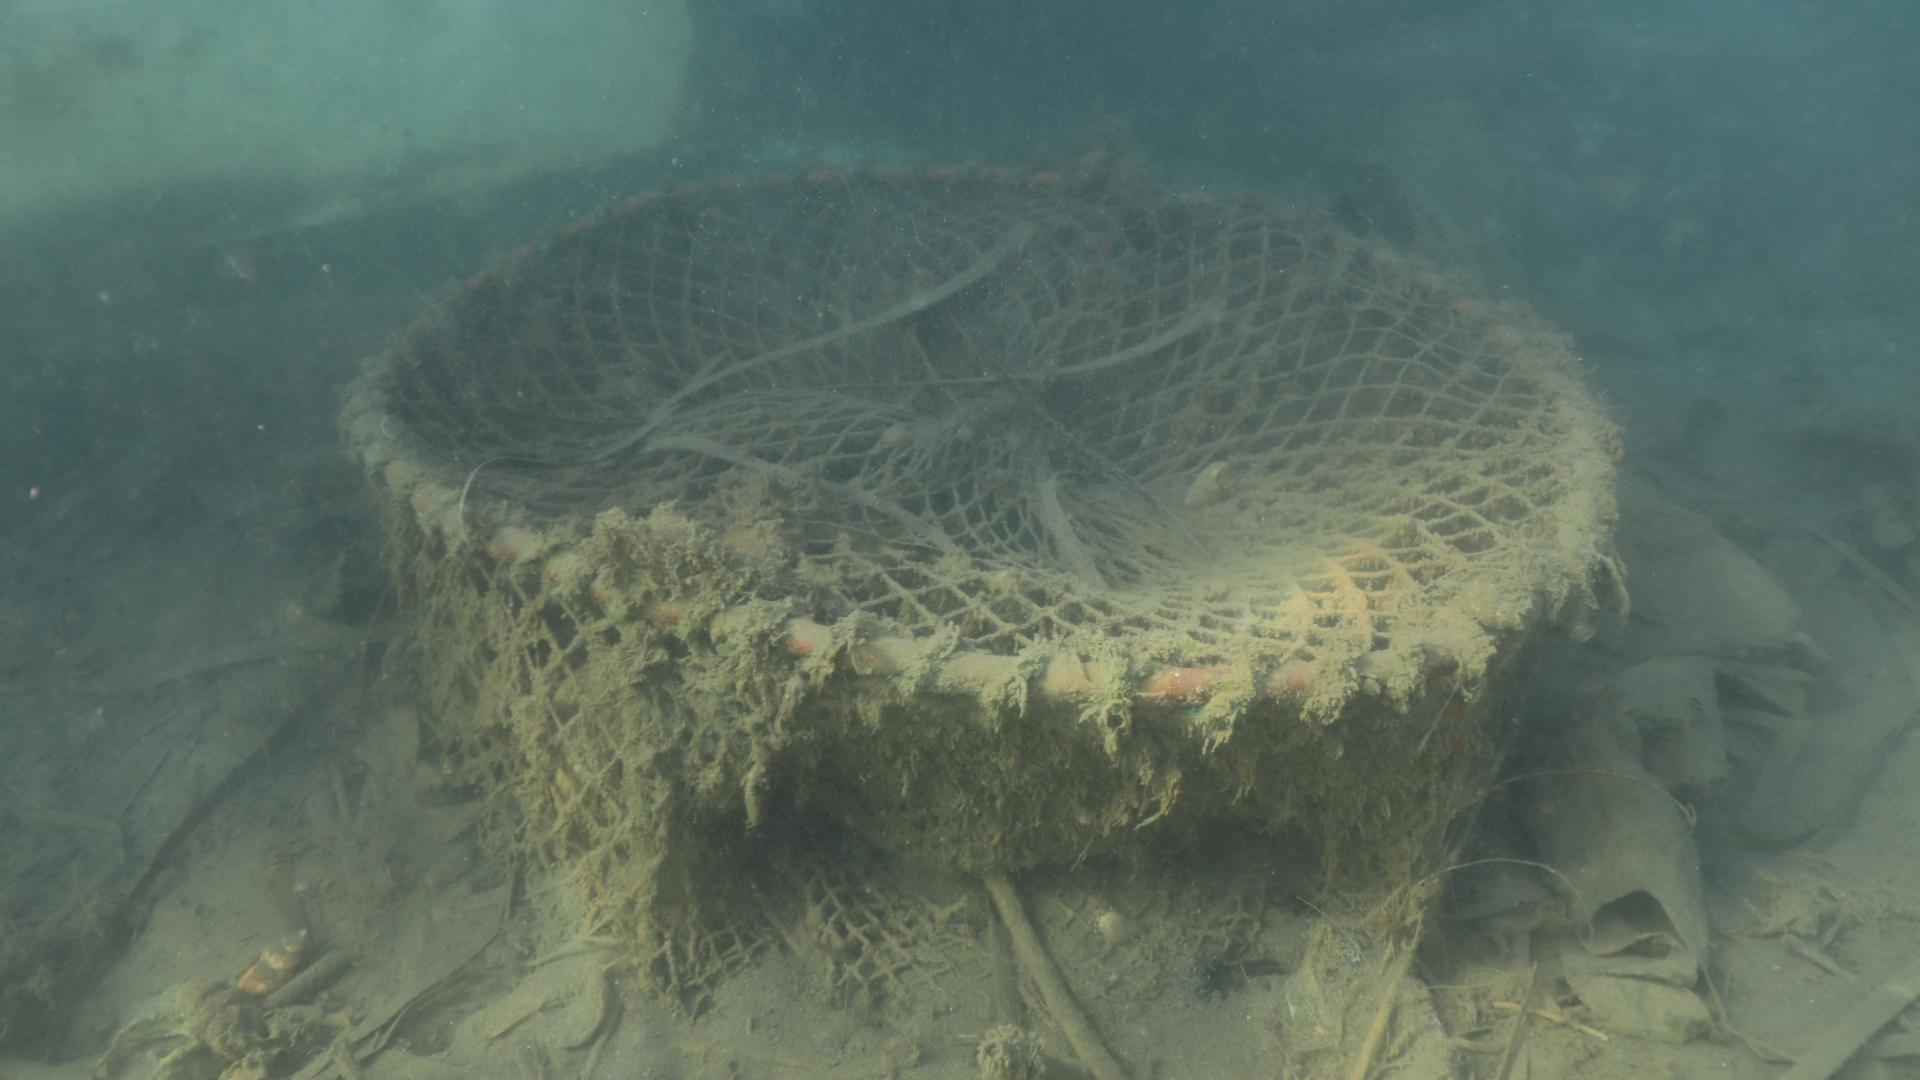circular fish trap: (338, 162, 1625, 972)
